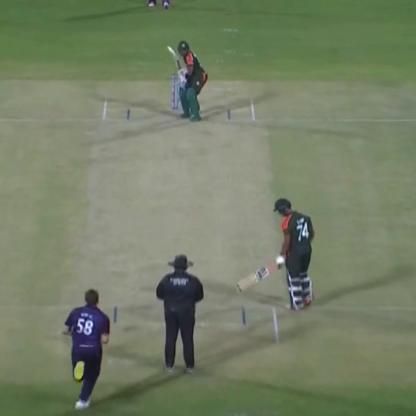bat: (233, 260, 284, 292), (160, 37, 186, 85)
pitch: (88, 82, 292, 362)
